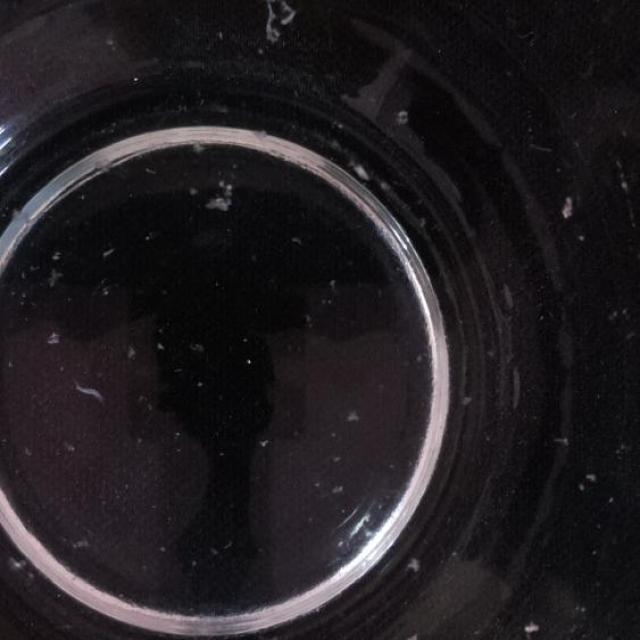fiber: (208, 176, 242, 216), (263, 2, 295, 43), (71, 383, 105, 403), (349, 158, 373, 184), (8, 553, 31, 579), (576, 469, 600, 493), (43, 327, 65, 348), (526, 616, 544, 640), (560, 197, 578, 220), (61, 439, 79, 457), (46, 268, 62, 288), (74, 532, 90, 552), (551, 431, 572, 446), (187, 338, 207, 352), (396, 108, 410, 128), (346, 409, 362, 424), (185, 182, 198, 200), (291, 230, 302, 250), (102, 244, 116, 258), (192, 138, 203, 154), (410, 556, 420, 573), (100, 282, 110, 298), (330, 484, 349, 492), (245, 354, 257, 366), (49, 248, 64, 257), (259, 437, 269, 448), (157, 542, 167, 553), (126, 346, 132, 360), (157, 341, 163, 351)
